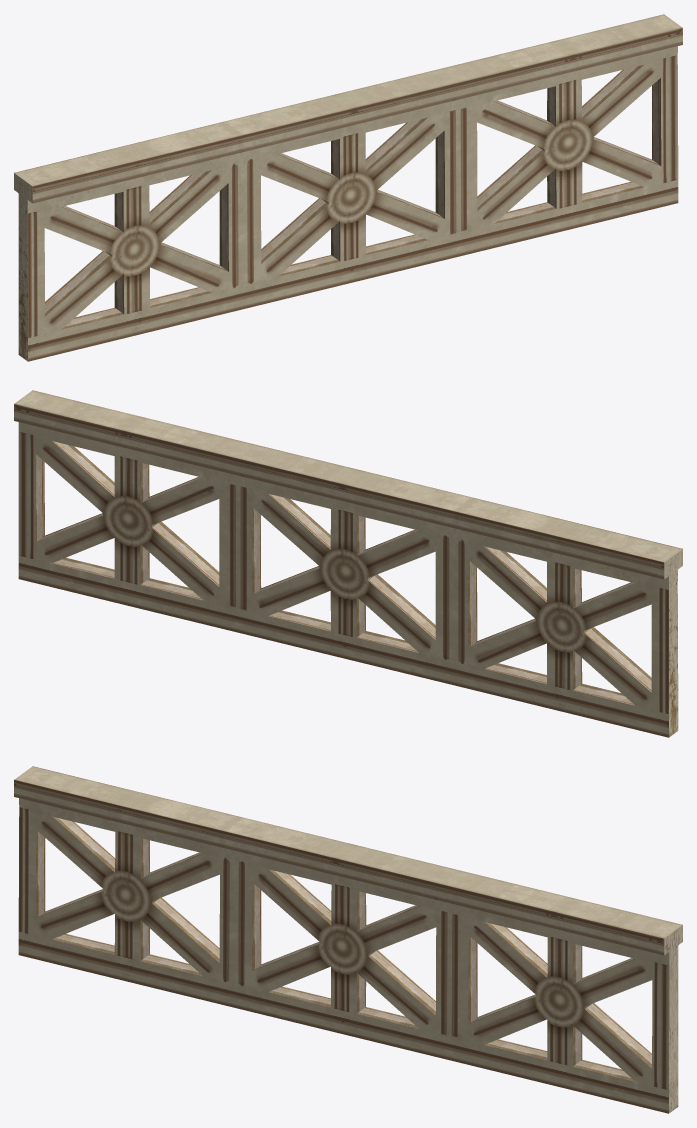
Rendered from svspartarail1.dae.
3 views of the same model, one above another, from view 1: azimuth 30°, elevation 25°; view 2: azimuth 150°, elevation 25°; view 3: azimuth 330°, elevation 25° (orthographic).
Visible parts, largest first — view 1: unnamed_object29_copy34-0; view 2: unnamed_object29_copy34-0; view 3: unnamed_object29_copy34-0.
Part boxes in pixels (<box>): unnamed_object29_copy34-0: <box>14,14,682,361</box>; unnamed_object29_copy34-0: <box>14,390,682,737</box>; unnamed_object29_copy34-0: <box>14,766,682,1113</box>.
Size of the model in its own units: 400 by 105 by 20.
